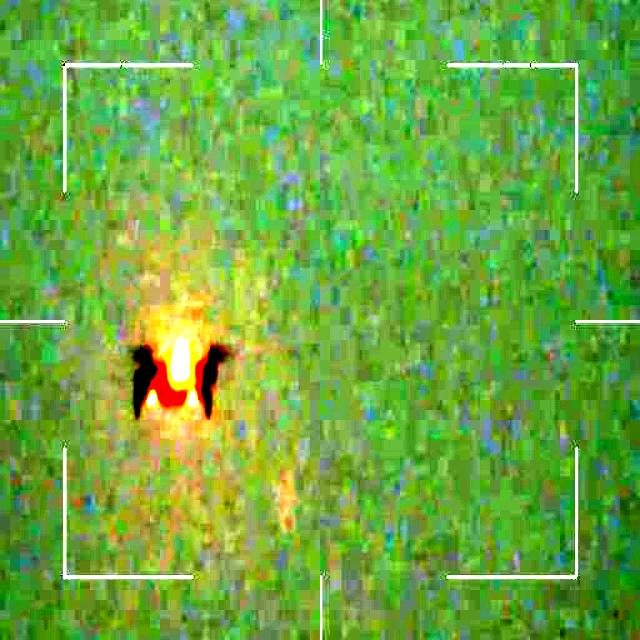bird: (126, 328, 229, 420)
